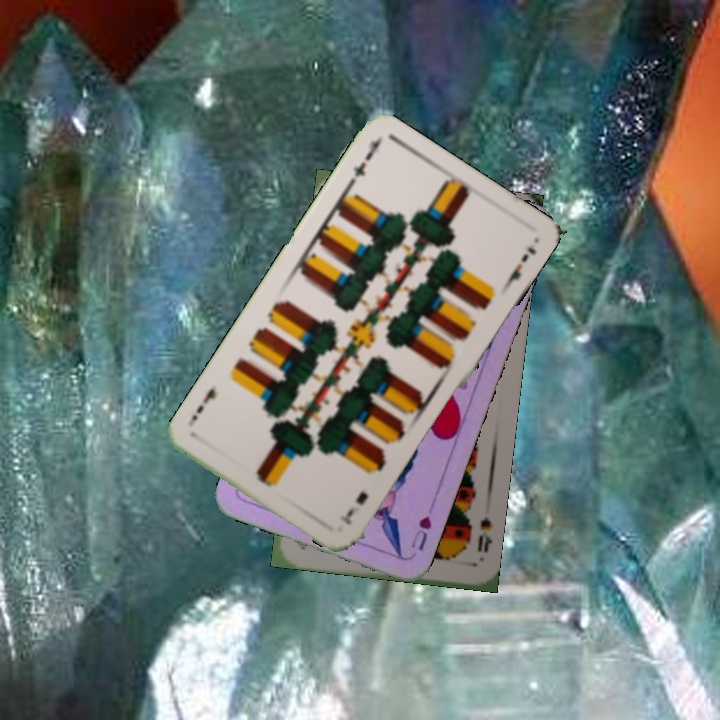E7: (344, 135, 383, 188), (337, 487, 371, 527)
HU: (406, 512, 435, 553)
S8: (473, 513, 495, 555)
